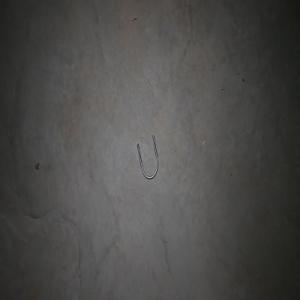ClampPart: (136, 133, 159, 180)
